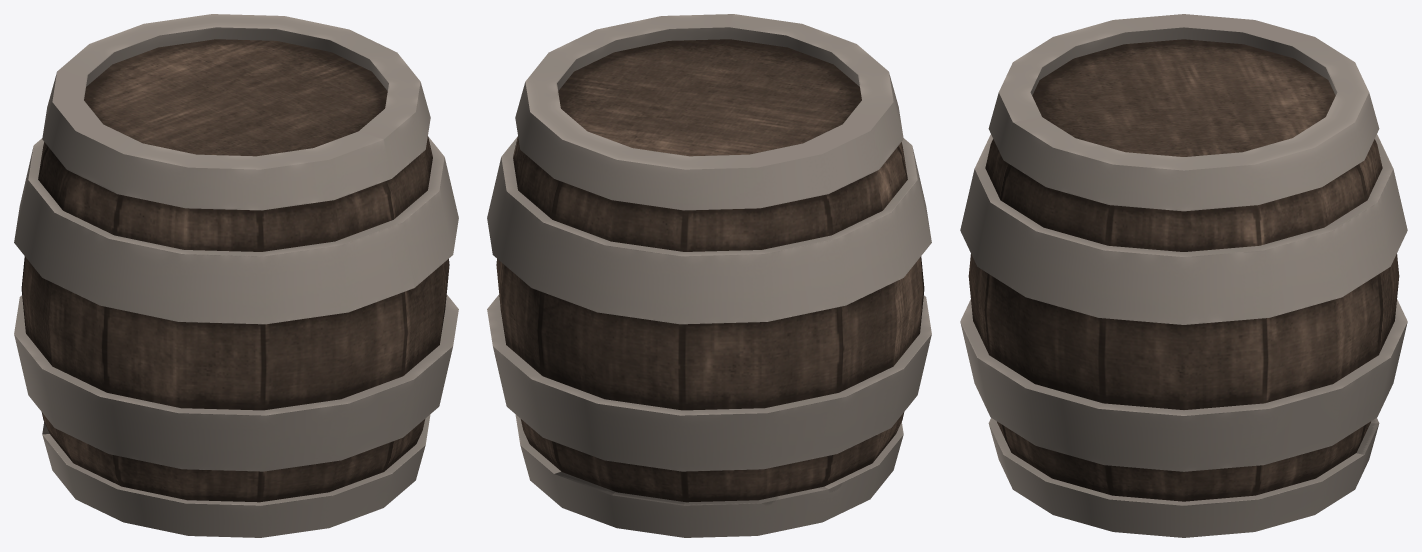
File: Barrel.fbx
3 renders of one model, left to right at view 1: azimuth 30°, elevation 25°; view 2: azimuth 150°, elevation 25°; view 3: azimuth 270°, elevation 25°, orthographic.
Visible parts, largest first — view 1: BARREL; view 2: BARREL; view 3: BARREL.
Boxes of the visible parts, x1,y1,x2,y2 form: BARREL: [14, 14, 458, 537]; BARREL: [487, 14, 931, 537]; BARREL: [960, 14, 1407, 537].
Size of the model in its own units: 5.55 by 5.02 by 5.55.
Materials: 1 (1 with a texture image).
